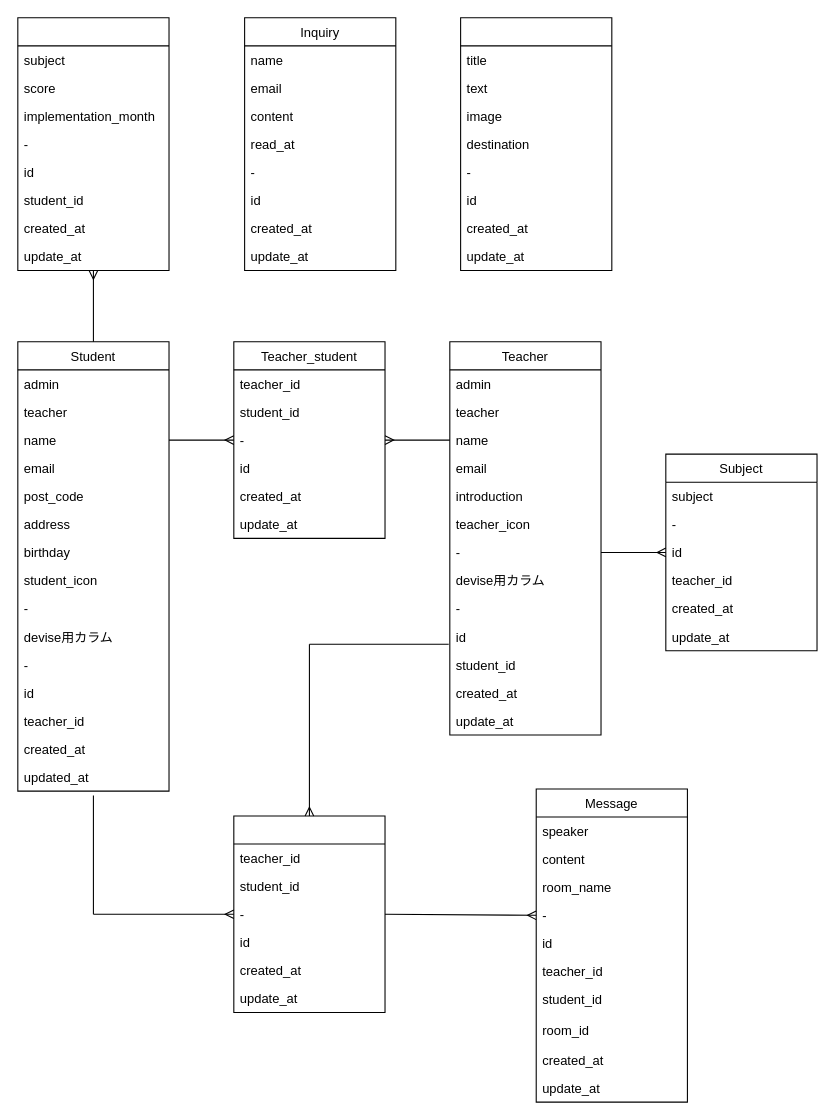
The diagram is 835 pixels wide and 1120 high, and some of its shapes have lost their labels. The shapes that lost their labels are listed below. From the top down, each one's box as (x1, y1, x2, y2) in pixels, then its label:
(17, 17, 169, 271): academic_ability
(460, 17, 612, 271): Notices
(233, 815, 385, 1013): Room
